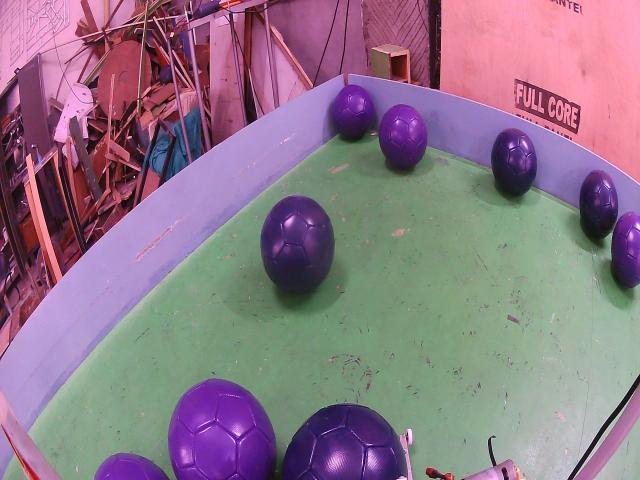jambhalya: (168, 378, 276, 480), (379, 105, 428, 168), (332, 85, 375, 138), (611, 212, 640, 288), (95, 453, 169, 480)
kaalyya: (282, 403, 409, 480), (260, 195, 335, 292), (491, 128, 538, 195), (580, 170, 619, 238)
